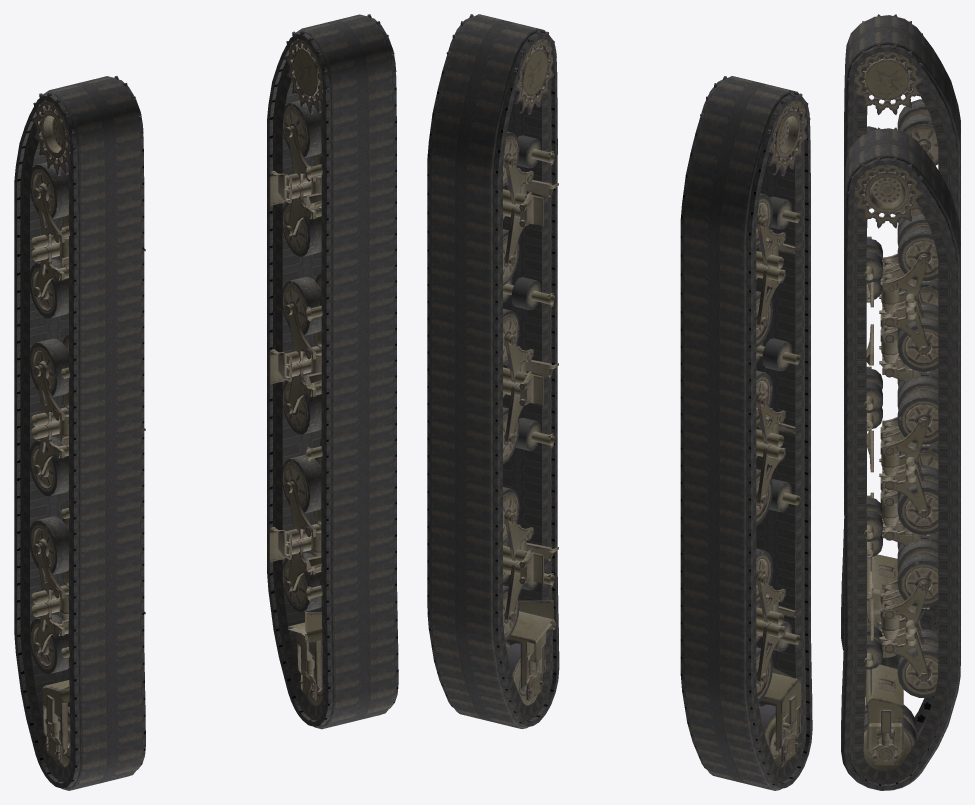
Rendered from Chassis.glb.
3 renders of one model, left to right at view 1: azimuth 30°, elevation 25°; view 2: azimuth 150°, elevation 25°; view 3: azimuth 270°, elevation 25°, orthographic. The views are drawn at different scales.
Visible parts, largest first — view 1: set_1_group_0, set_0_group_0, set_3_group_0, set_2_group_0; view 2: set_1_group_0, set_0_group_0, set_3_group_0, set_2_group_0; view 3: set_0_group_0, set_3_group_0, set_2_group_0, set_1_group_0.
Boxes of the visible parts, x1,y1,x2,y2 form: set_1_group_0: (14, 76, 145, 790); set_0_group_0: (267, 14, 398, 729); set_3_group_0: (269, 14, 396, 705); set_2_group_0: (30, 76, 145, 767); set_1_group_0: (680, 76, 812, 790); set_0_group_0: (427, 14, 559, 728); set_3_group_0: (446, 14, 558, 705); set_2_group_0: (700, 76, 810, 767); set_0_group_0: (841, 128, 960, 790); set_3_group_0: (847, 127, 938, 770); set_2_group_0: (847, 14, 938, 657); set_1_group_0: (841, 15, 960, 668).
Size of the model in its own units: 3.1 by 6.18 by 1.05.
4 materials, 4 textured.
